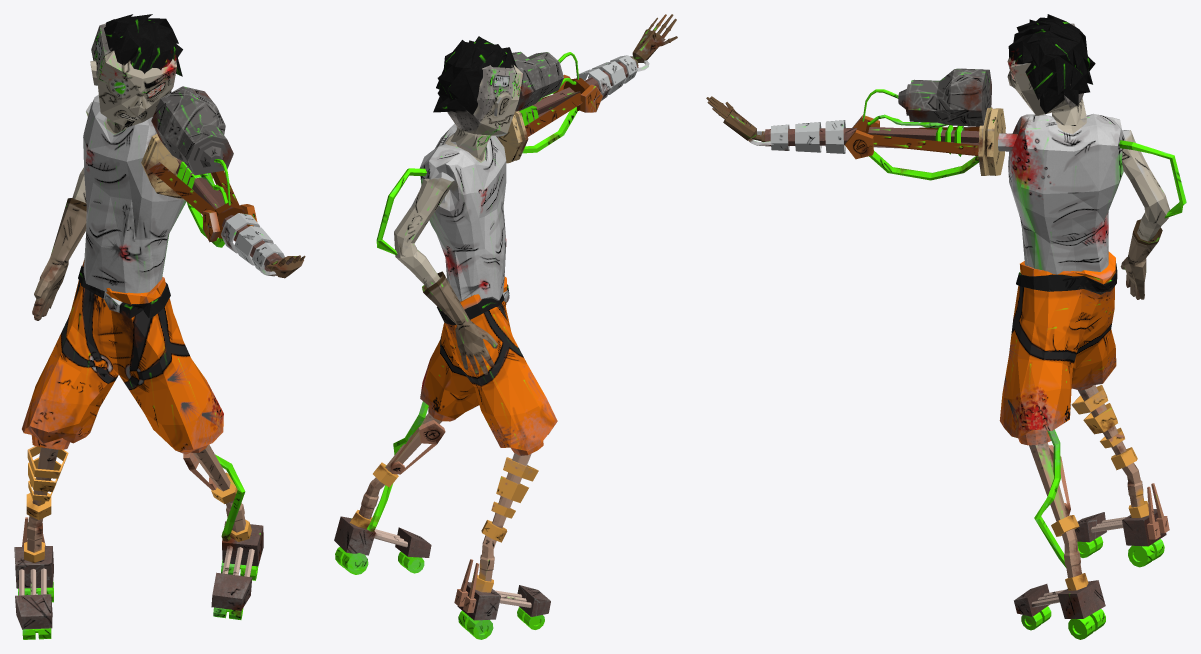
Rendered from CyborgFINALAnimation_000023.obj.
The picture shows the model from 3 angles, left to right: view 1: azimuth 30°, elevation 25°; view 2: azimuth 150°, elevation 25°; view 3: azimuth 270°, elevation 25°; orthographic projection. The views are drawn at different scales.
Visible parts, largest first — view 1: CyborgMesh_Cube.002; view 2: CyborgMesh_Cube.002; view 3: CyborgMesh_Cube.002.
Part boxes in pixels (x1,y1,x2,y2): CyborgMesh_Cube.002: [14, 14, 305, 639]; CyborgMesh_Cube.002: [334, 14, 677, 639]; CyborgMesh_Cube.002: [706, 14, 1186, 639].
Size of the model in its own units: 3.86 by 9.42 by 7.22.
